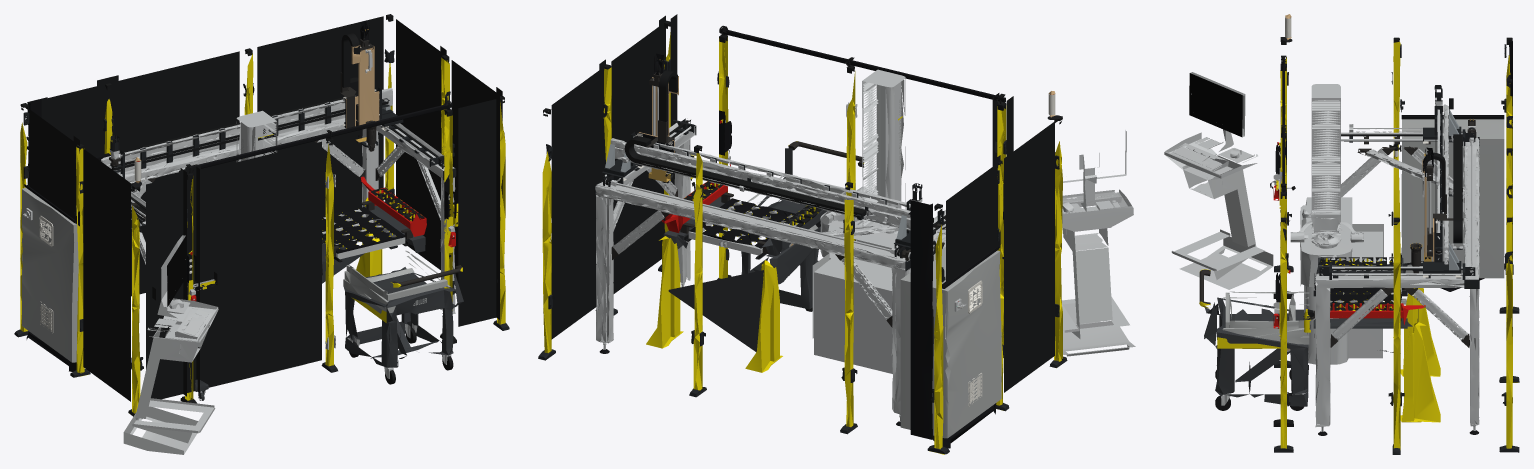
Rendered from corameasurelg.glb.
The picture shows the model from 3 angles, left to right: view 1: azimuth 30°, elevation 25°; view 2: azimuth 150°, elevation 25°; view 3: azimuth 270°, elevation 25°; orthographic projection. The views are drawn at different scales.
Visible parts, largest first — view 1: corameasurelg; view 2: corameasurelg; view 3: corameasurelg.
Part boxes in pixels (<box>): corameasurelg: <box>14,14,509,454</box>; corameasurelg: <box>538,14,1135,454</box>; corameasurelg: <box>1164,14,1519,454</box>.
Size of the model in its own units: 3.79 by 2.32 by 2.77.
